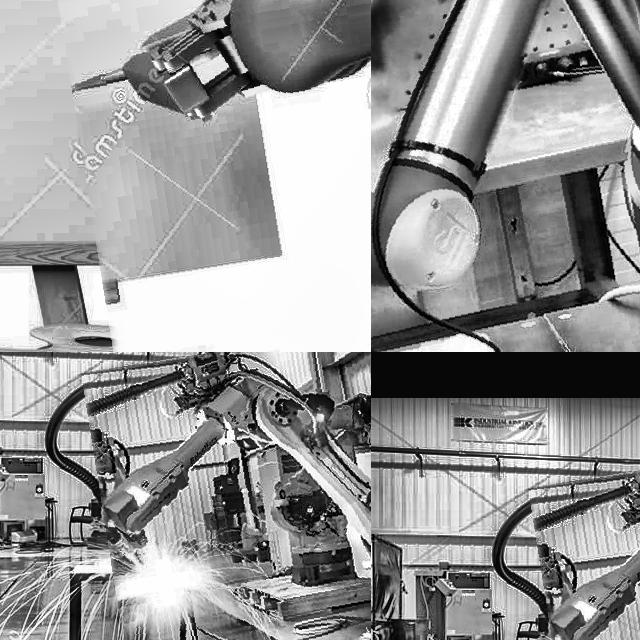robot: (81, 0, 371, 352), (371, 0, 640, 352), (92, 352, 371, 640), (270, 392, 371, 600), (539, 445, 640, 640), (70, 396, 155, 550), (517, 511, 601, 640)
